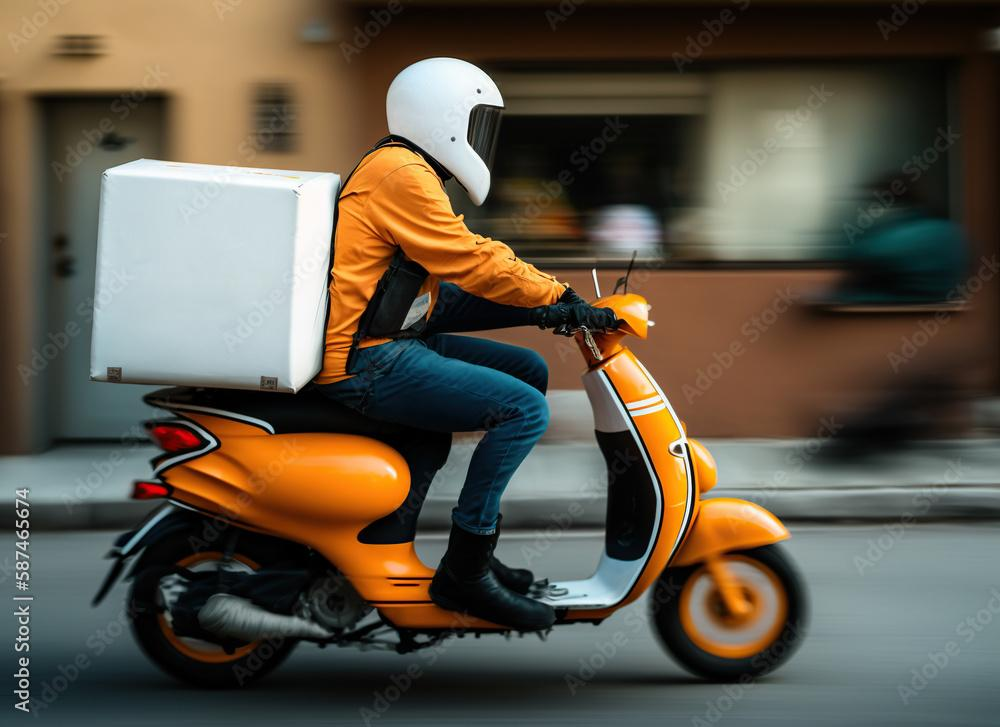helmet: (385, 56, 507, 208)
